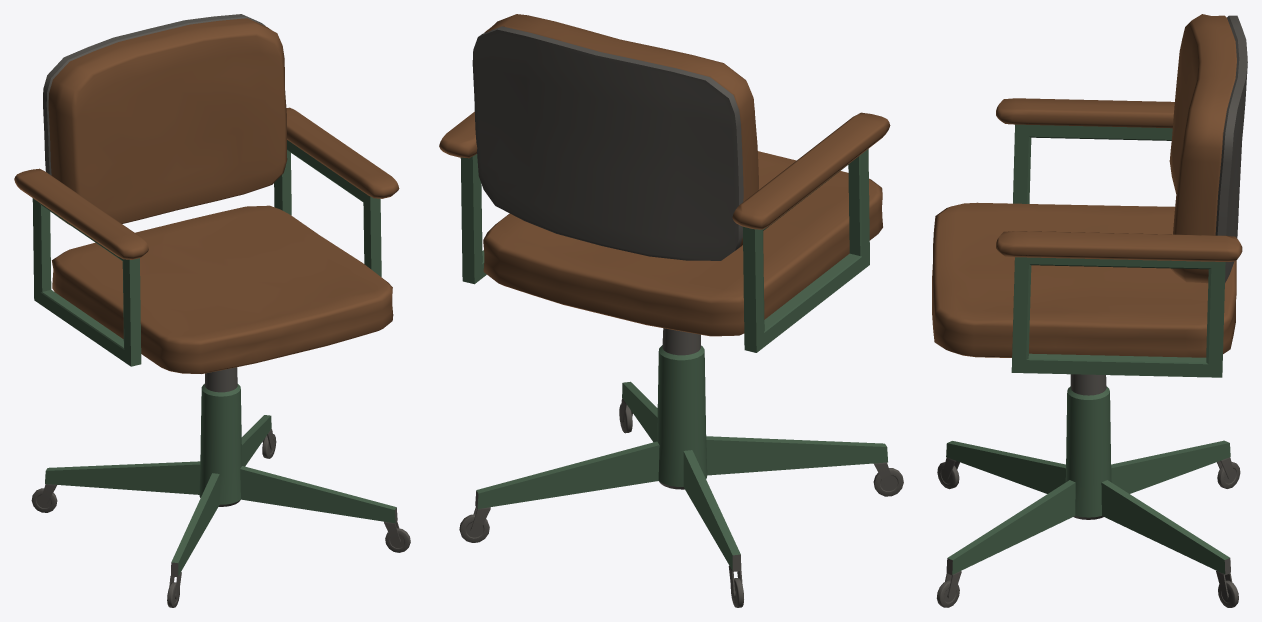
The model's file is modernchair.glb.
The picture shows the model from 3 angles, left to right: view 1: azimuth 30°, elevation 25°; view 2: azimuth 150°, elevation 25°; view 3: azimuth 270°, elevation 25°; orthographic projection. The views are drawn at different scales.
Parts seen in each view (by area): view 1: pCube4; view 2: pCube4; view 3: pCube4.
Part boxes in pixels (x1=…): pCube4: x1=14, y1=14, x2=410, y2=607; pCube4: x1=439, y1=14, x2=903, y2=607; pCube4: x1=932, y1=14, x2=1247, y2=607.
Bounding box in the file's own units: 0.6691 × 1.04 × 0.6062.
Materials: 1 (1 with a texture image).
